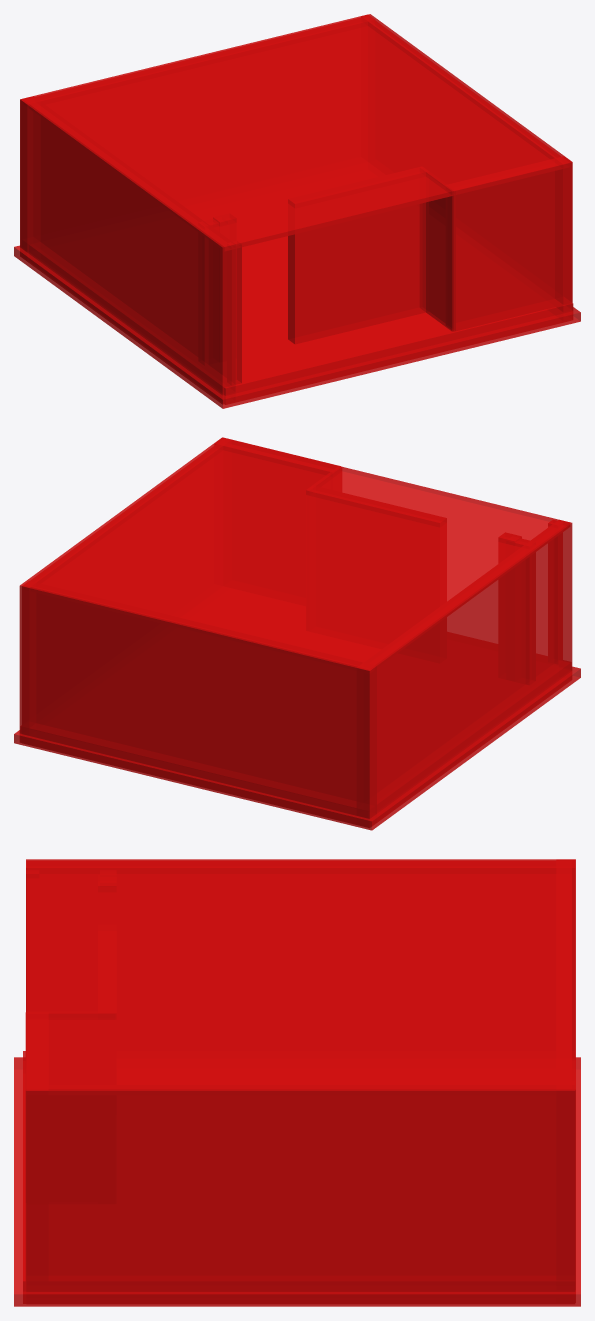
Rendered from SM_Bld_City_Section_Base_03_Collision.fbx.
The picture shows the model from 3 angles, top to bottom: view 1: azimuth 30°, elevation 25°; view 2: azimuth 150°, elevation 25°; view 3: azimuth 270°, elevation 25°; orthographic projection. The views are drawn at different scales.
Parts seen in each view (by area): view 1: SM_Bld_City_Section_Base_03_Collision; view 2: SM_Bld_City_Section_Base_03_Collision; view 3: SM_Bld_City_Section_Base_03_Collision.
Part boxes in pixels (bbox=[...]): SM_Bld_City_Section_Base_03_Collision: bbox=[14, 14, 580, 408]; SM_Bld_City_Section_Base_03_Collision: bbox=[14, 437, 580, 830]; SM_Bld_City_Section_Base_03_Collision: bbox=[14, 859, 580, 1306].
Bounding box in the file's own units: 767 × 321 × 775.
